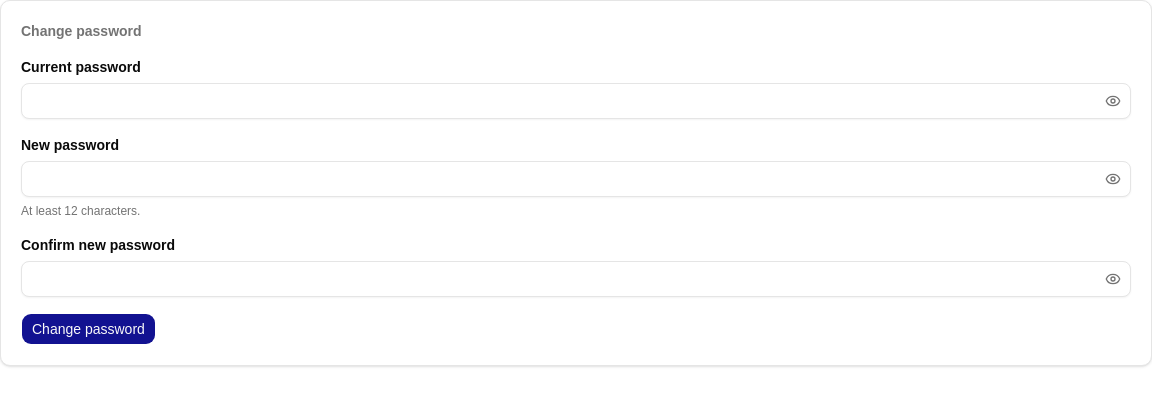
Scenario: ChangePasswordForm › wrong_current → clears and focuses only the current field
Type "current-password-1" into the password field labelled "Current password". click: point(576, 101)
box: [21,83,1131,119]
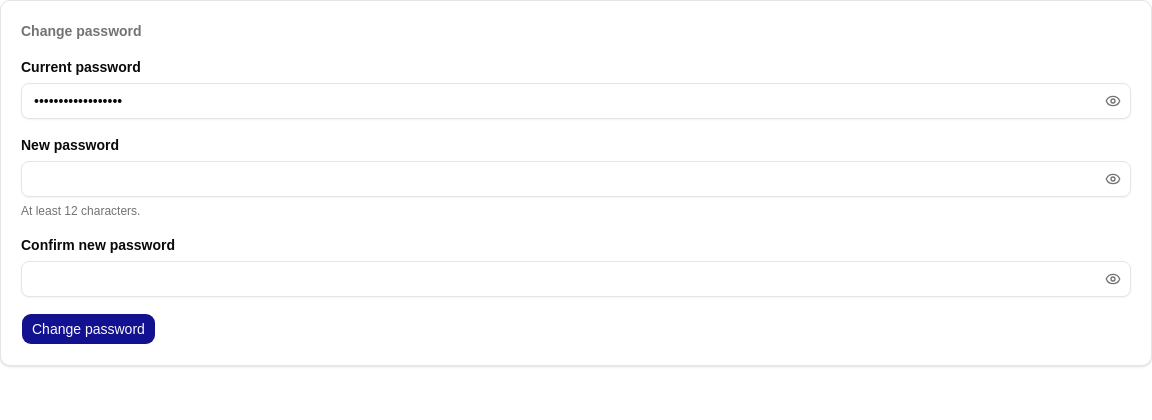
Type "brand-new-password" into the password field labelled "New password". click: point(576, 179)
box: [21,161,1131,197]
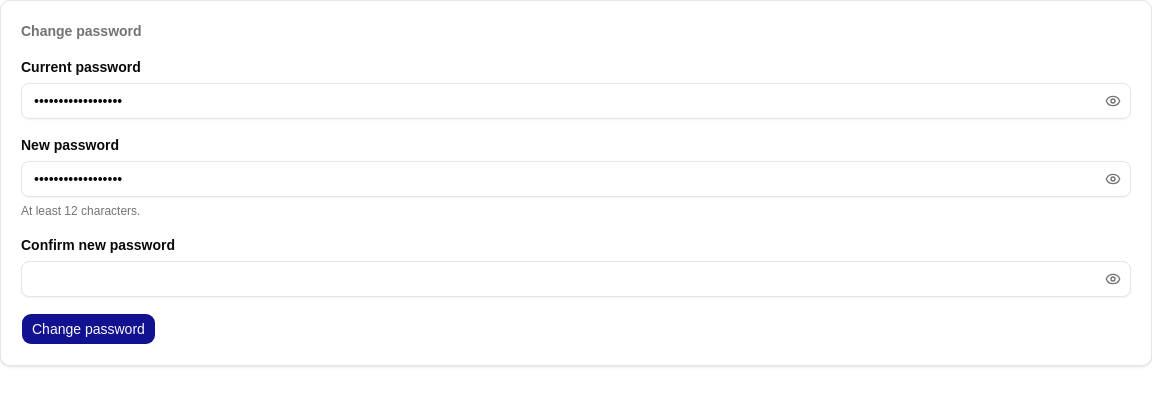
Type "brand-new-password" into the password field labelled "Confirm new password". click: point(576, 279)
box: [21,261,1131,297]
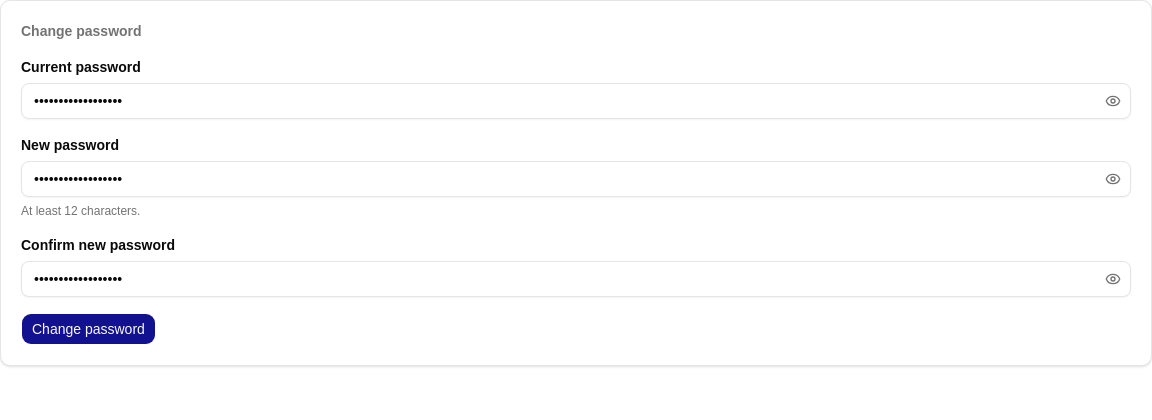
Click the button "Change password". click: point(88, 329)
box: [21,313,156,345]
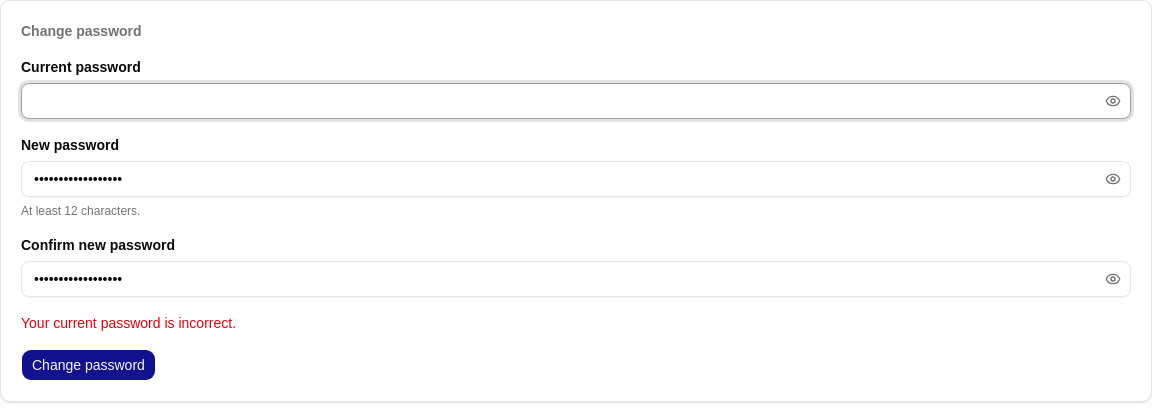
Now the message reads "Your current password is incorrect.", box [21,315,236,331]
Now the password field labelled "Current password" is empty, box [21,83,1131,119]
